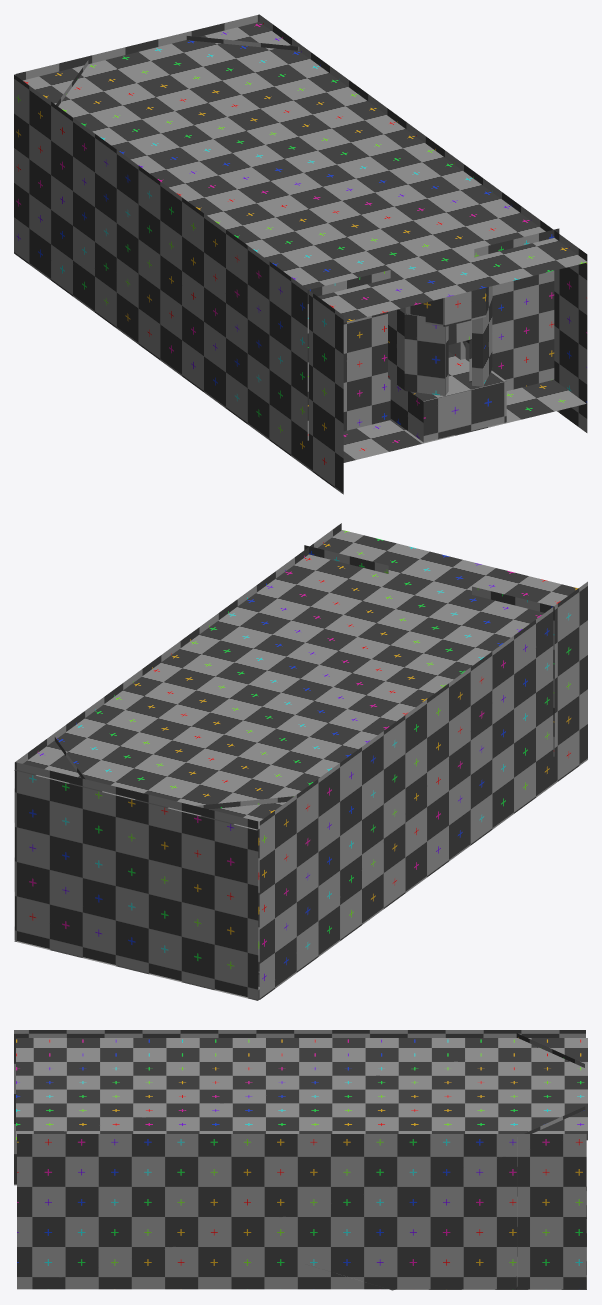
The model's file is CoolMountainGerardo.glb.
3 views of the same model, one above another, from view 1: azimuth 30°, elevation 25°; view 2: azimuth 150°, elevation 25°; view 3: azimuth 270°, elevation 25° (orthographic). The views are drawn at different scales.
Parts seen in each view (by area): view 1: Techo, MuroIzq, MuroDer, MuroFrenteDer, MuroFrenteIzq, Plataforma, PisoAlto, TunelChaflanIzq, TunelTecho, MuroFondo, TunelChaflanDer, TunelLadoIzq; view 2: Techo, MuroIzq, MuroFondo, MuroDer, MuroFrenteIzq, PanelIzq, MuroFrenteDer; view 3: MuroDer, Techo, MuroIzq, PanelDer.
Part boxes in pixels (x1,y1,x2,y2): Techo: (23, 22, 587, 322); MuroIzq: (14, 74, 343, 494); MuroDer: (259, 15, 587, 432); MuroFrenteDer: (474, 228, 559, 390); MuroFrenteIzq: (307, 270, 390, 440); Plataforma: (390, 352, 506, 442); PisoAlto: (343, 379, 586, 462); TunelChaflanIzq: (404, 313, 448, 395); TunelTecho: (400, 286, 492, 326); MuroFondo: (15, 14, 259, 80); TunelChaflanDer: (472, 300, 492, 386); TunelLadoIzq: (388, 309, 404, 389); Techo: (14, 530, 577, 830); MuroIzq: (259, 581, 587, 999); MuroFondo: (15, 762, 258, 999); MuroDer: (14, 523, 341, 940); MuroFrenteIzq: (472, 586, 554, 756); PanelIzq: (196, 796, 293, 971); MuroFrenteDer: (304, 545, 388, 573); MuroDer: (17, 1134, 586, 1289); Techo: (16, 1038, 587, 1140); MuroIzq: (14, 1030, 585, 1185); PanelDer: (517, 1106, 585, 1286).
Bounding box in the file's own units: 10.28 × 7.1 × 23.43.
Materials: 1 (1 with a texture image).
